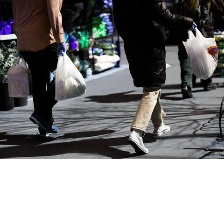plastic_bag: (178, 25, 220, 81), (49, 49, 89, 101), (4, 55, 36, 99)
